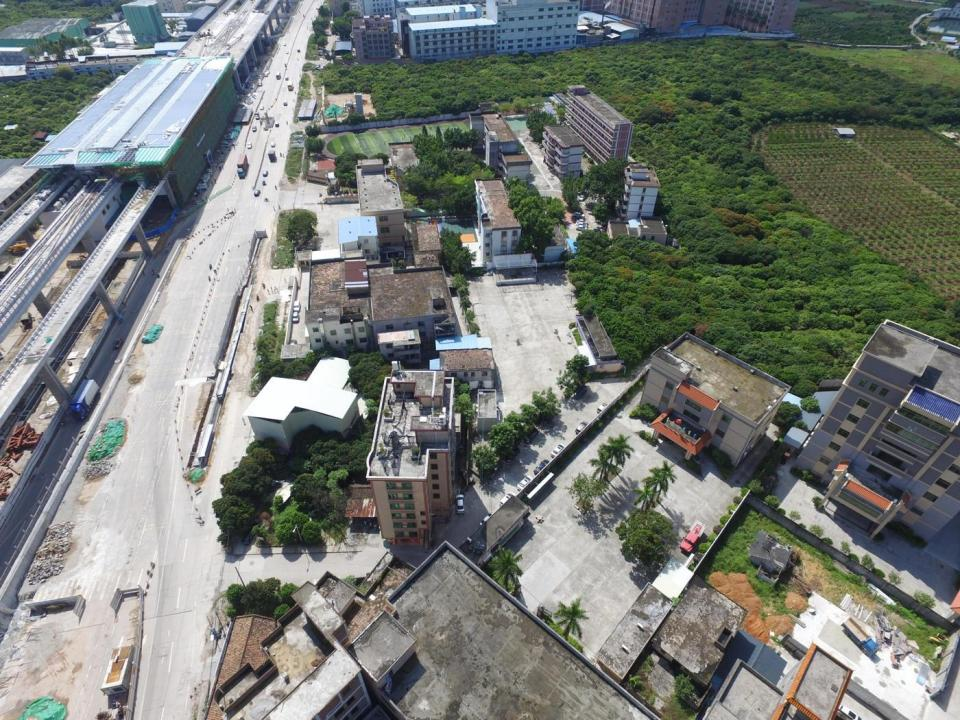bus: (288, 81, 294, 90), (276, 72, 281, 80)
car: (487, 461, 503, 478), (498, 492, 515, 507), (518, 476, 533, 492), (534, 460, 549, 476), (505, 446, 520, 461), (480, 512, 494, 528), (456, 494, 466, 514), (551, 444, 565, 458), (574, 385, 588, 399), (525, 428, 538, 443), (576, 421, 588, 435), (113, 337, 124, 348), (597, 403, 606, 414), (290, 339, 297, 352), (292, 311, 300, 322), (294, 300, 301, 312), (593, 226, 604, 232), (572, 212, 585, 217), (578, 194, 586, 201), (577, 219, 587, 224), (577, 223, 588, 227), (577, 226, 588, 230), (254, 189, 260, 196), (247, 142, 252, 149), (262, 171, 267, 177), (601, 220, 606, 226), (271, 142, 275, 148), (252, 126, 256, 132), (284, 50, 290, 54), (259, 106, 264, 110), (285, 77, 289, 80), (284, 102, 288, 105), (282, 42, 286, 45)
truck: (842, 617, 879, 657), (70, 380, 100, 422), (680, 521, 704, 555), (236, 154, 248, 178), (268, 150, 276, 162), (254, 112, 260, 119)
van: (22, 311, 31, 325), (275, 123, 279, 127)
